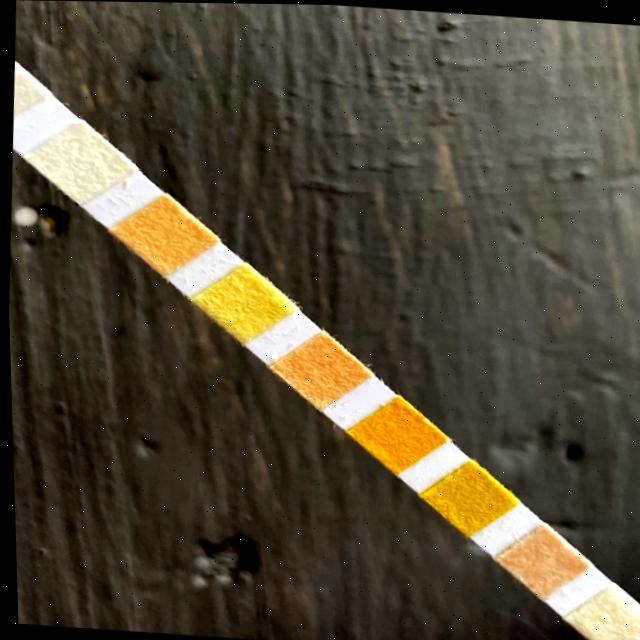Bilirubin: (585, 599, 636, 638)
Blood: (369, 413, 423, 456)
Ketone: (515, 541, 567, 581)
Leukocytes: (13, 66, 22, 109)
Nitrite: (46, 140, 111, 184)
Protein: (216, 281, 273, 325)
SpGravity: (443, 475, 495, 521)
Urobilinogen: (134, 214, 195, 256)
pH: (290, 349, 349, 392)
